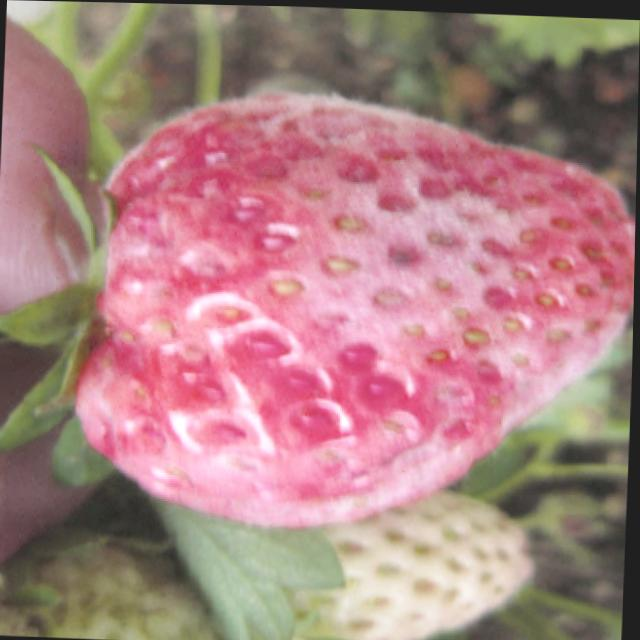Powdery Mildew Fruit: (69, 88, 637, 528)
